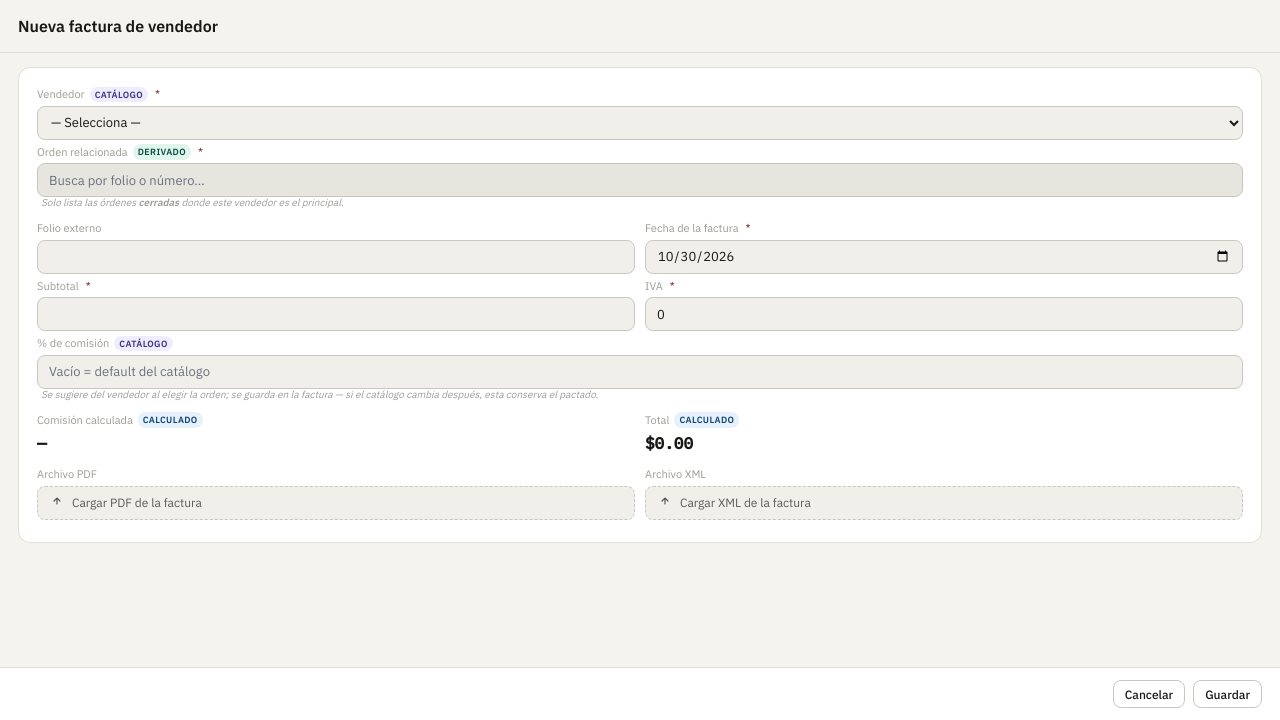
Scenario: FacturaVendedorForm › al elegir un vendedor, el combo se habilita y solo lista sus OC cerradas
The width and height of the screenshot is (1280, 720).
Select "Juan Pérez" in the dropdown at (640, 122), box [37,106,1243,140]
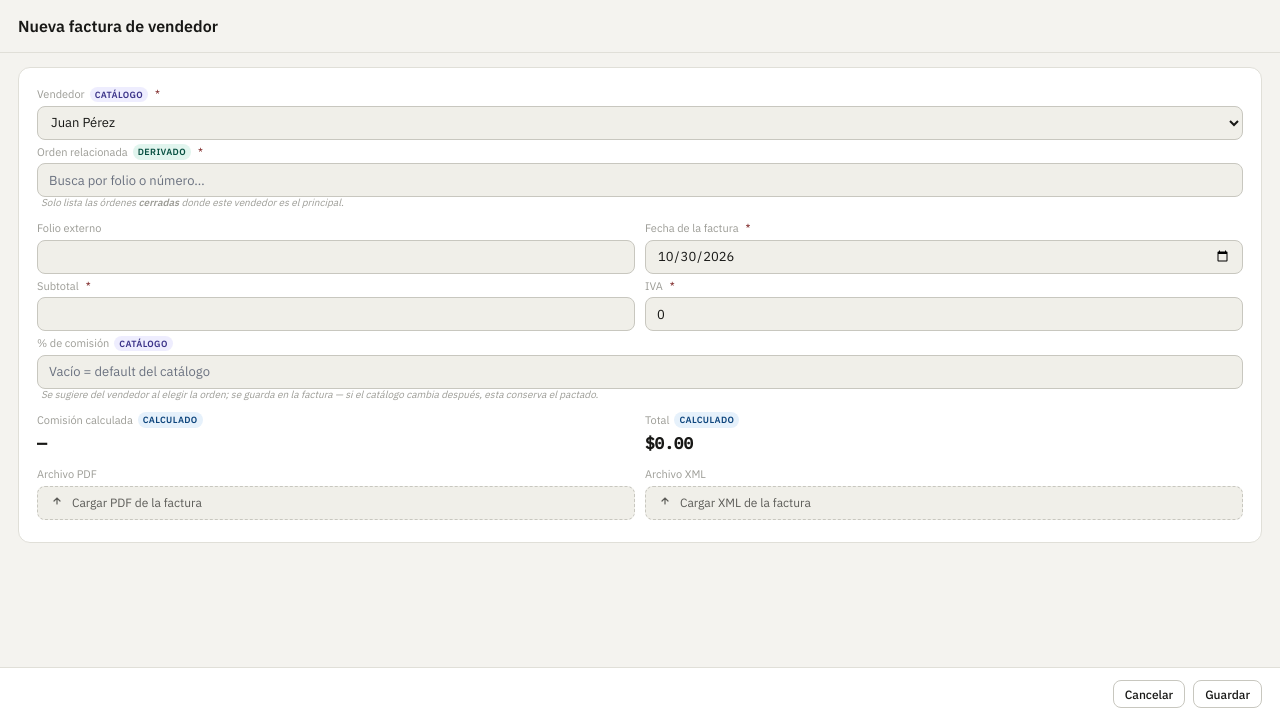
Type "0041" into the field with placeholder "Busca por folio o número…".
click(640, 180); type("0041")  # box [37,163,1243,197]
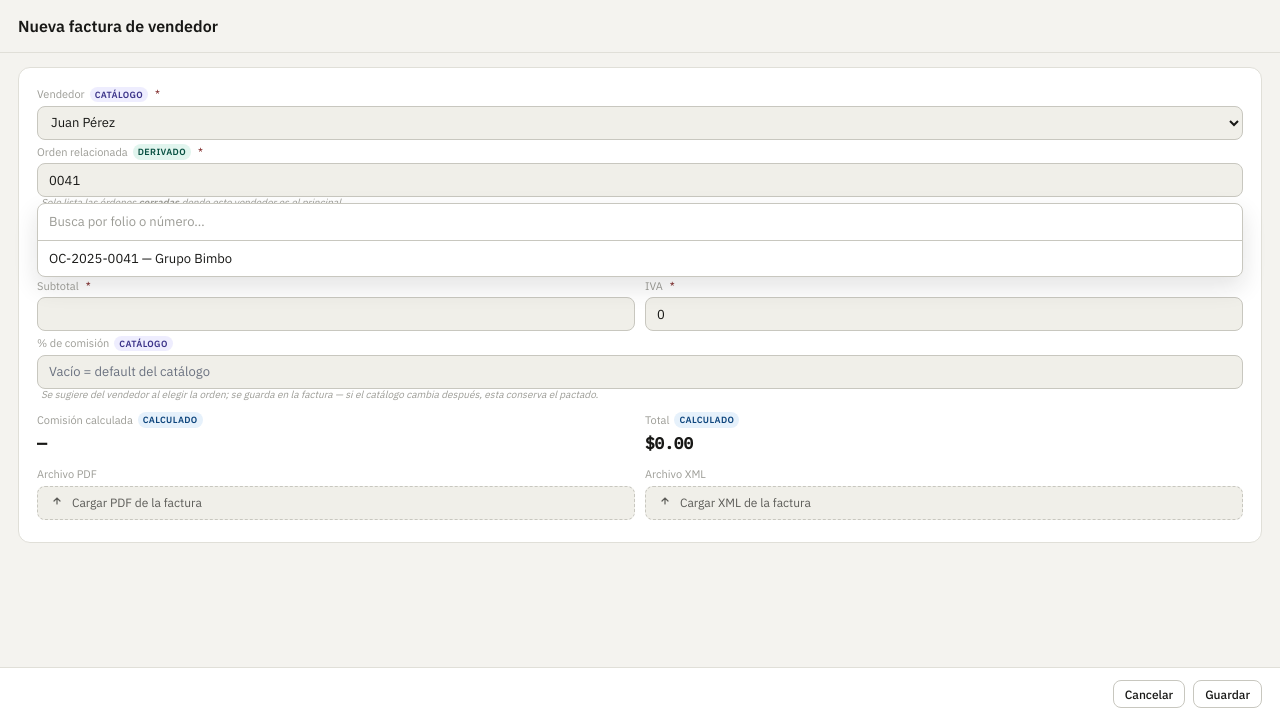
Now the text "OC-2025-0041 — Grupo Bimbo" is shown, box [49,250,232,266]
